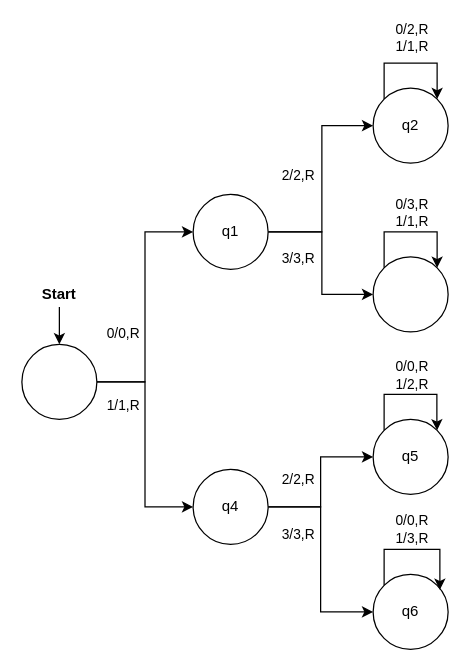
Some shapes in this 473 by 671 pixel diagram are drawn without their labels. Each missing label, with the centre of its shape:
"q0" belongs at point (59, 381).
"q3" belongs at point (410, 294).
